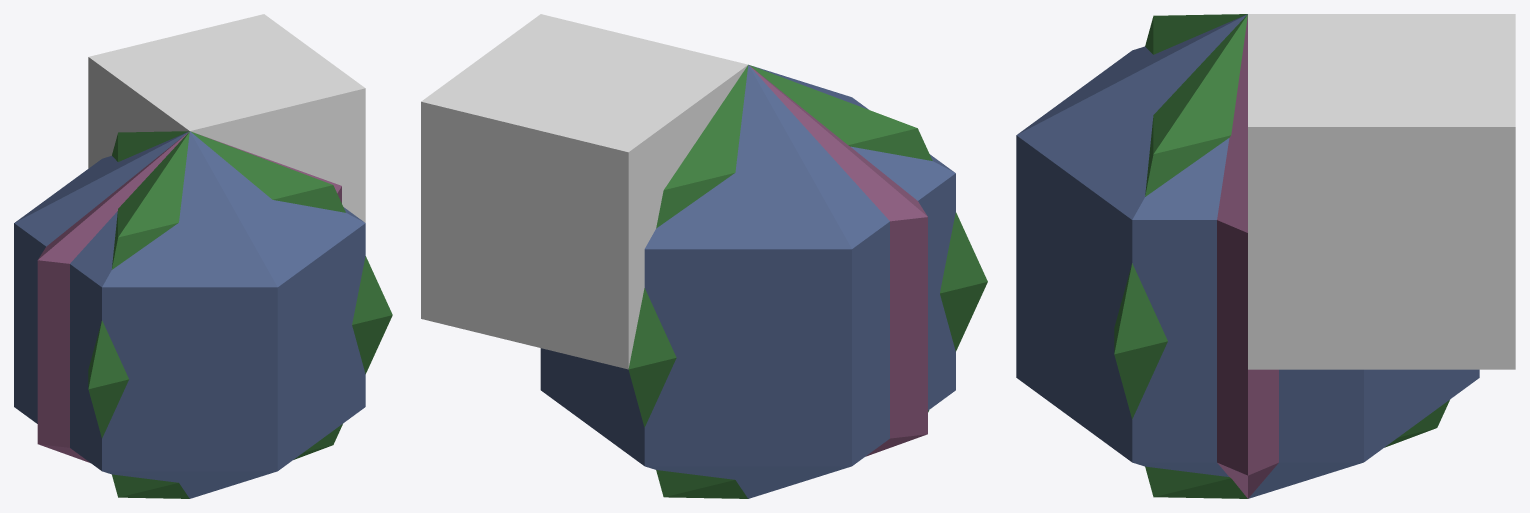
3 renders of one model, left to right at view 1: azimuth 30°, elevation 25°; view 2: azimuth 150°, elevation 25°; view 3: azimuth 270°, elevation 25°, orthographic. The views are drawn at different scales.
Parts seen in each view (by area): view 1: Sphere.001, CubeObj, Sphere, Sphere.006; view 2: Sphere.001, CubeObj, Sphere, Sphere.006; view 3: CubeObj, Sphere.001, Sphere, Sphere.006.
Part boxes in pixels (<box>): Sphere.001: <box>14,131,365,498</box>; CubeObj: <box>88,14,365,222</box>; Sphere: <box>88,131,392,498</box>; Sphere.006: <box>37,131,341,463</box>; Sphere.001: <box>540,65,955,498</box>; CubeObj: <box>421,14,747,369</box>; Sphere: <box>628,65,987,498</box>; Sphere.006: <box>749,65,927,456</box>; CubeObj: <box>1248,14,1515,369</box>; Sphere.001: <box>1016,14,1479,498</box>; Sphere: <box>1114,14,1449,498</box>; Sphere.006: <box>1217,16,1278,498</box>.
Size of the model in its own units: 1.87 by 2 by 1.87.
